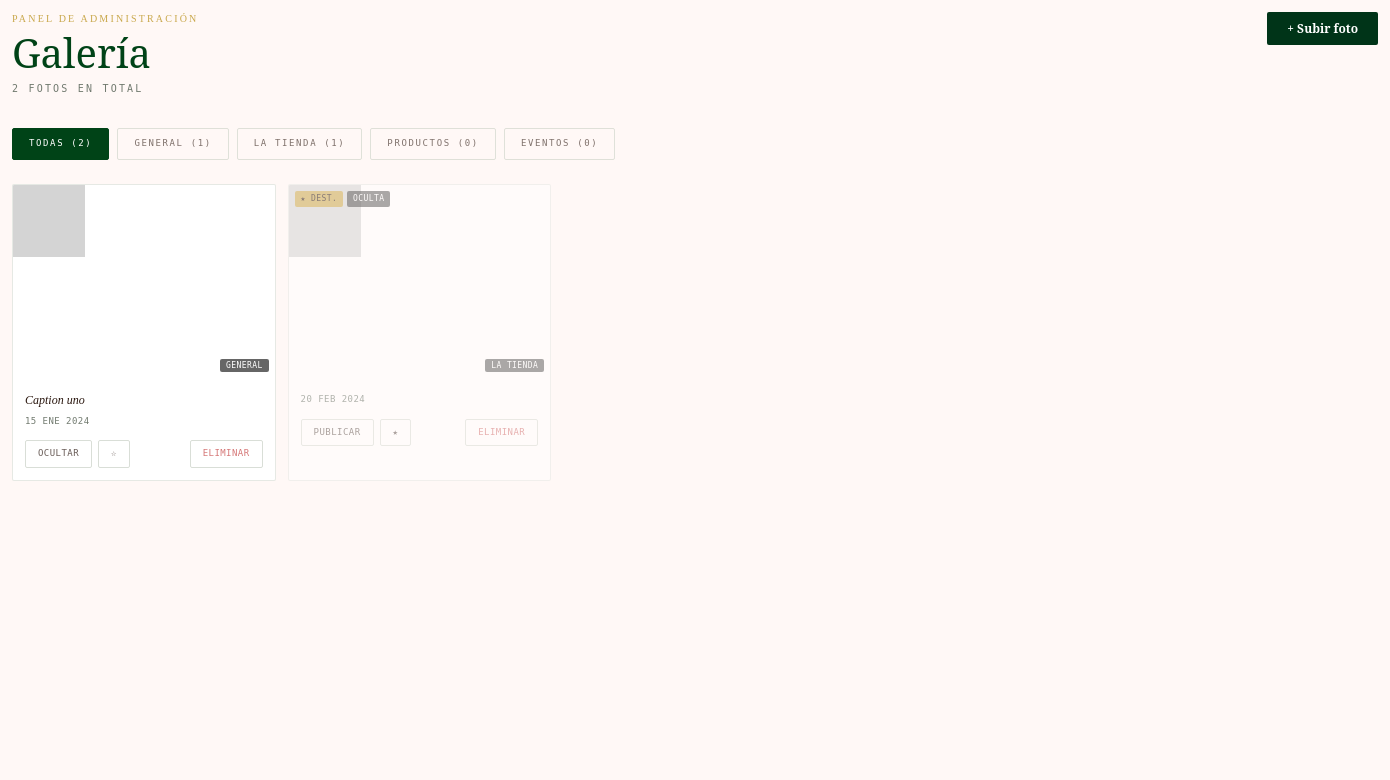
Test: AdminGaleriaClient › shows success toast after delete
Step 1. Click the button "Eliminar" below "15 ene 2024" → (226, 454), box [190,440,263,468]
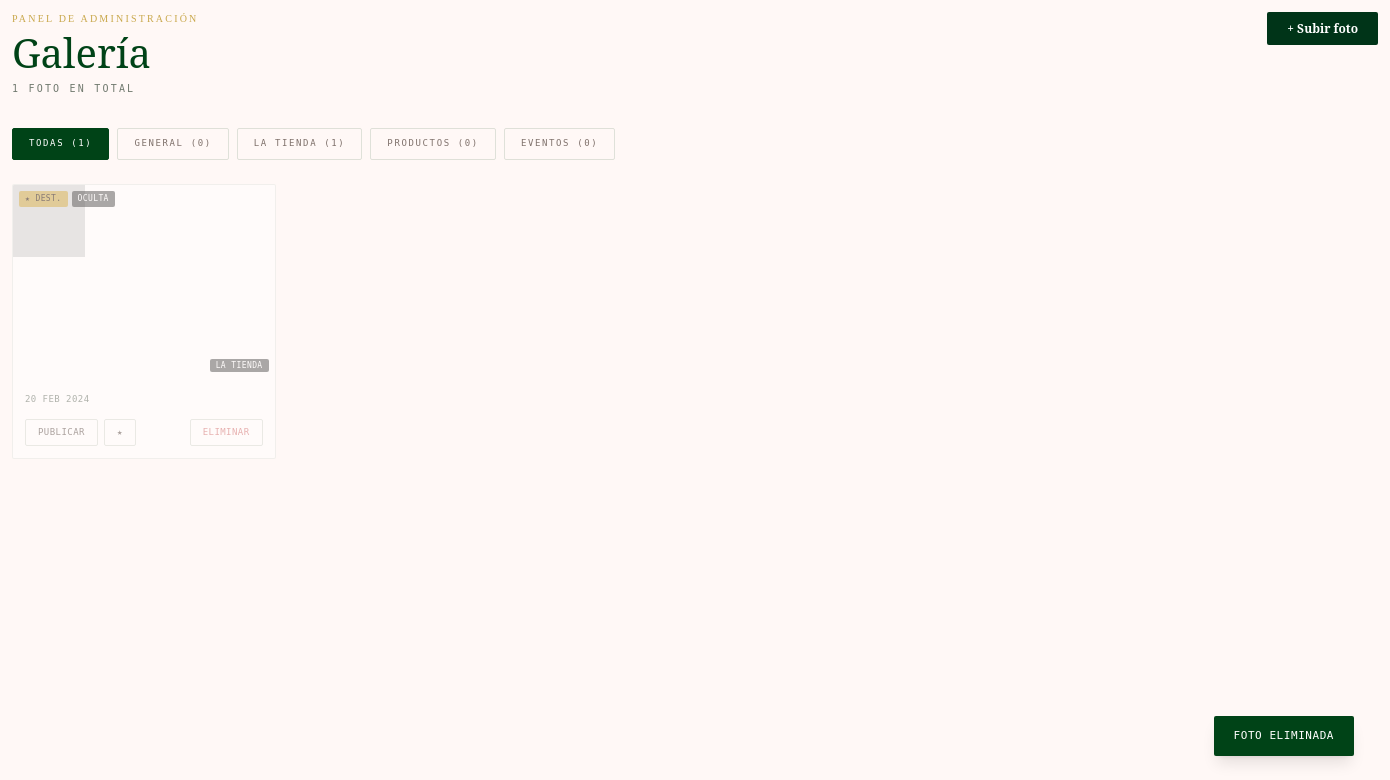
Now the text "Foto eliminada" is shown, box [1214,716,1354,756]
